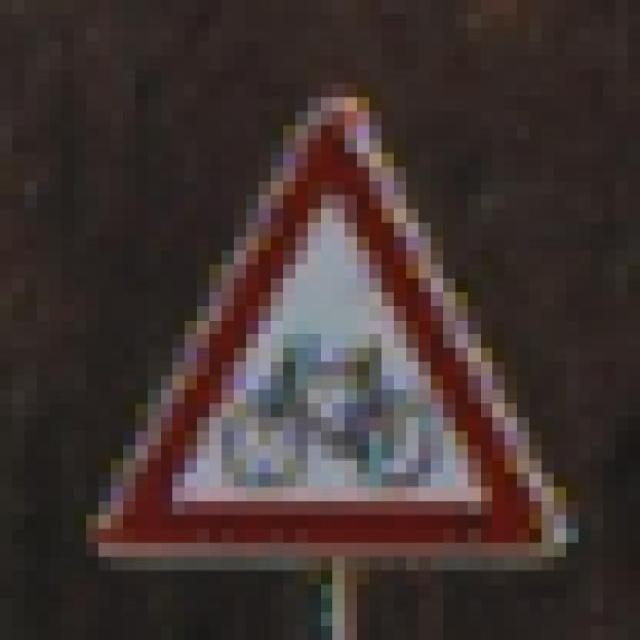CYCLE ROUTE AHEAD WARNING: (74, 70, 591, 598)
